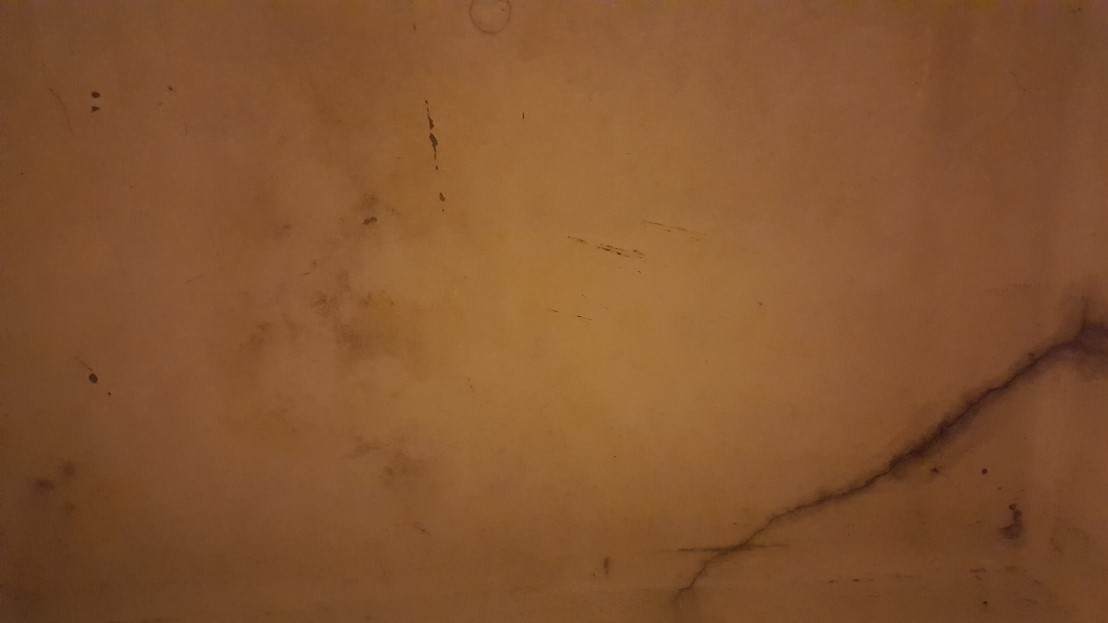Crack: (657, 296, 1108, 615)
